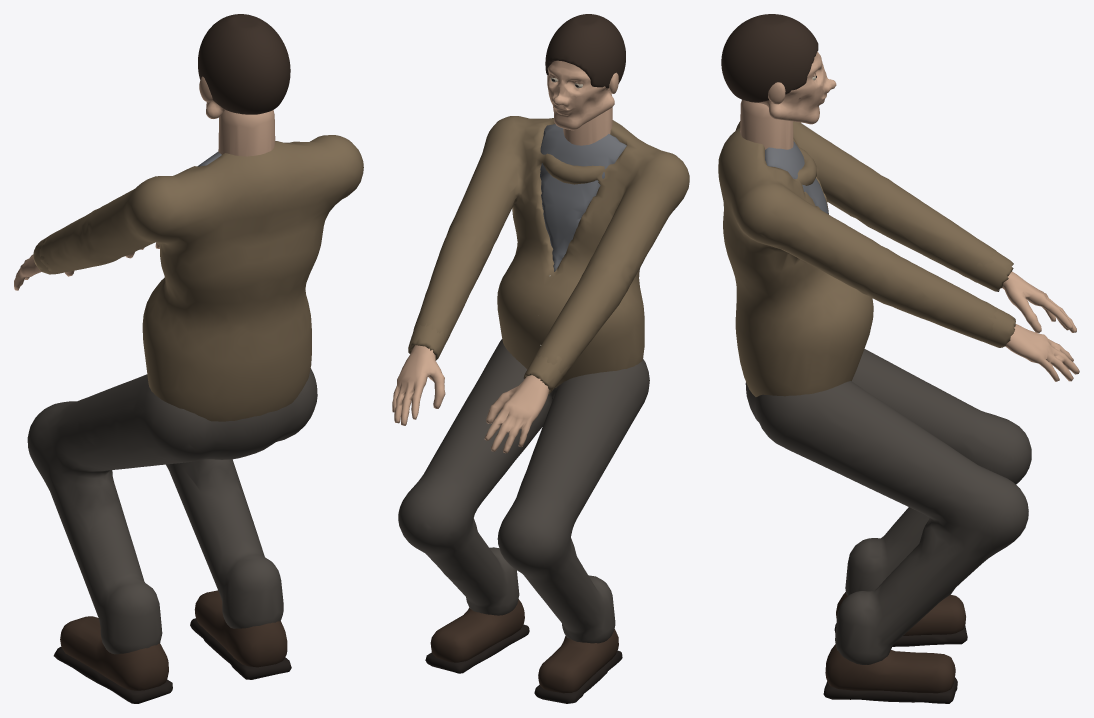
The model's file is cardigan.glb.
The picture shows the model from 3 angles, left to right: view 1: azimuth 30°, elevation 25°; view 2: azimuth 150°, elevation 25°; view 3: azimuth 270°, elevation 25°; orthographic projection. The views are drawn at different scales.
Parts seen in each view (by area): view 1: cardigan_body, cardigan_head, cardigan_hands; view 2: cardigan_body, cardigan_head, cardigan_hands; view 3: cardigan_body, cardigan_head, cardigan_hands.
Boxes of the visible parts, x1,y1,x2,y2 form: cardigan_body: [27, 110, 363, 703]; cardigan_head: [198, 14, 290, 118]; cardigan_hands: [14, 238, 159, 290]; cardigan_body: [398, 91, 689, 703]; cardigan_head: [545, 14, 625, 130]; cardigan_hands: [392, 323, 567, 453]; cardigan_body: [718, 99, 1031, 703]; cardigan_head: [721, 14, 836, 124]; cardigan_hands: [970, 249, 1079, 381].
Size of the model in its own units: 0.4648 by 1.37 by 0.6935.
